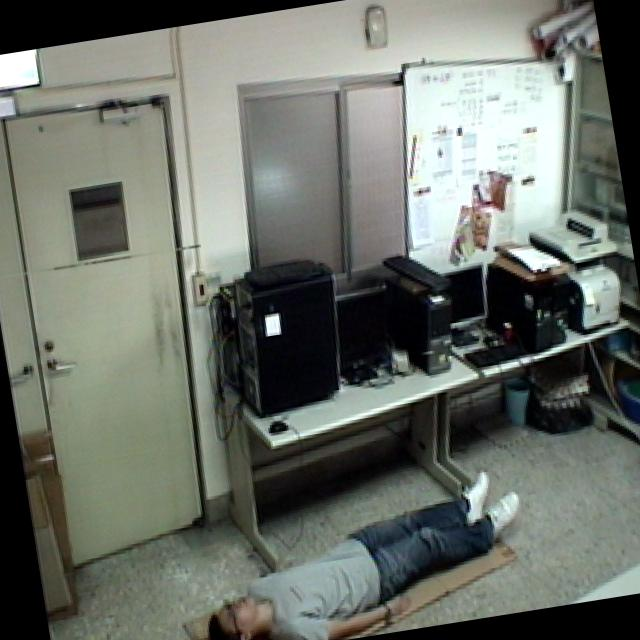lie: (183, 450, 540, 640)
